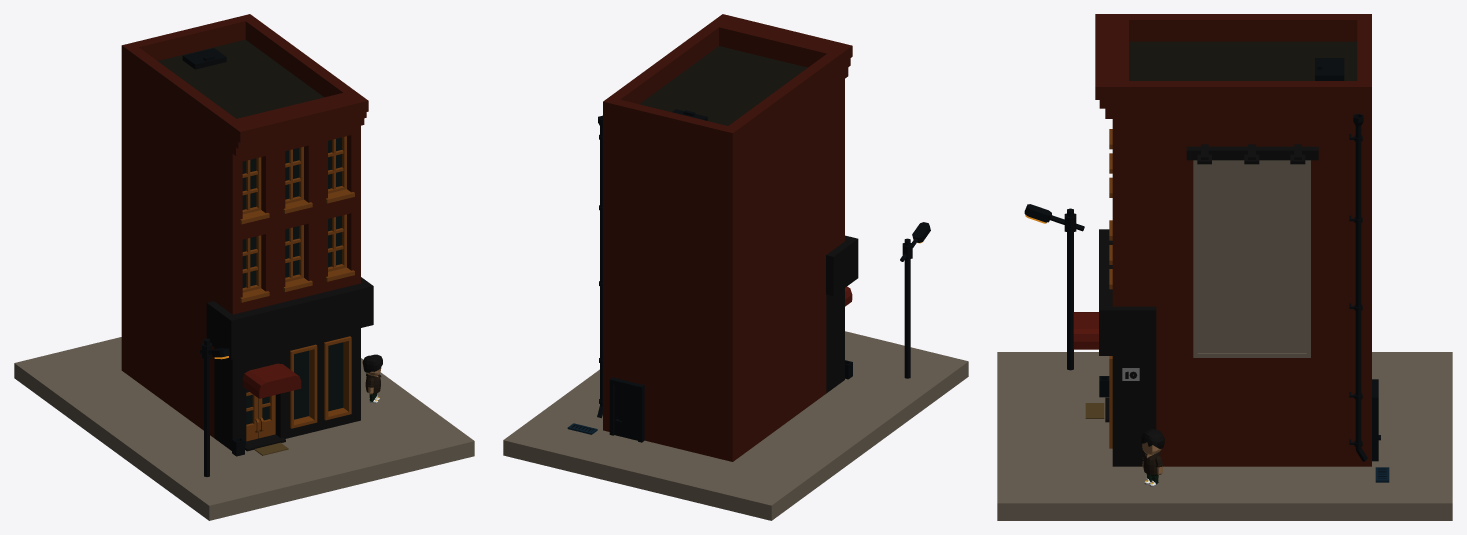
The model's file is SF_Modern Building 10.fbx.
3 renders of one model, left to right at view 1: azimuth 30°, elevation 25°; view 2: azimuth 150°, elevation 25°; view 3: azimuth 270°, elevation 25°, orthographic. The views are drawn at different scales.
Visible parts, largest first — view 1: Box16707, Group815, Box16688, Box16689, Box16702, Box16696, Plane1448, Plane1447, Box16699, street_light_037, Box16703; view 2: Box16688, Box16707, Group815, Box16689, Box16704, Box16696, Box16702, street_light_037, Cylinder1820; view 3: Box16688, Box16707, Group815, Box16705, Box16689, Box16696, Box16702, Cylinder1820, street_light_037, Box16699, Box16703, Box16704.
Part boxes in pixels (x1,y1,x2,y2): Box16707: (14,337,474,520); Group815: (121,14,368,441); Box16688: (121,73,214,437); Box16689: (214,125,360,314); Box16702: (206,277,373,359); Box16696: (214,328,360,450); Plane1448: (242,137,341,287); Plane1447: (246,342,343,424); Box16699: (242,363,301,398); street_light_037: (199,338,229,476); Box16703: (182,48,226,69); Box16688: (603,93,826,461); Box16707: (503,331,968,520); Group815: (603,14,852,160); Box16689: (826,79,844,254); Box16704: (609,377,644,442); Box16696: (826,288,844,393); Box16702: (826,235,858,296); street_light_037: (900,222,930,378); Cylinder1820: (597,115,602,418); Box16688: (1156,119,1371,466); Box16707: (997,352,1452,520); Group815: (1095,14,1371,448); Box16705: (1186,144,1318,357); Box16689: (1112,119,1156,306); Box16696: (1112,356,1156,466); Box16702: (1099,229,1156,355); Cylinder1820: (1353,113,1367,461); street_light_037: (1024,204,1084,370); Box16699: (1073,312,1098,349); Box16703: (1315,58,1344,80); Box16704: (1372,379,1380,461).
Size of the model in its own units: 1100 by 1348 by 1400.
